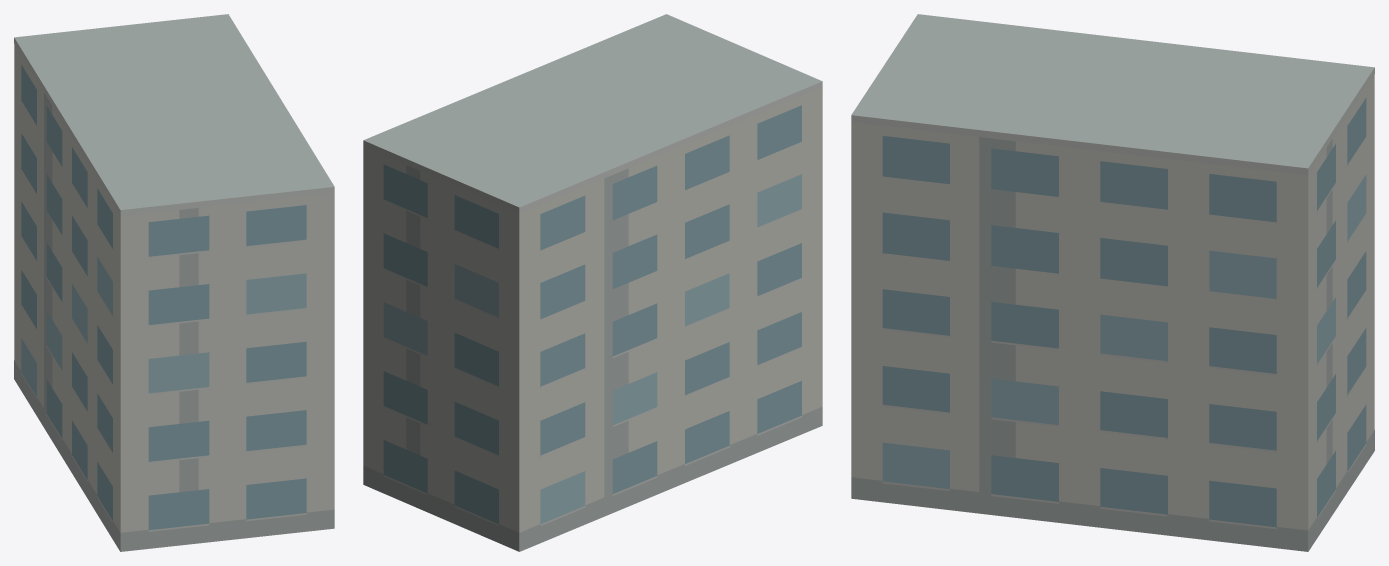
The model's file is survey-upis-32979079.glb.
3 views of the same model, side by side, from view 1: azimuth 30°, elevation 25°; view 2: azimuth 150°, elevation 25°; view 3: azimuth 270°, elevation 25° (orthographic). The views are drawn at different scales.
Parts seen in each view (by area): view 1: survey-upis-32979079.tmp; view 2: survey-upis-32979079.tmp; view 3: survey-upis-32979079.tmp.
Part boxes in pixels (left/top/right/bottom): survey-upis-32979079.tmp: left=14, top=14, right=334, bottom=551; survey-upis-32979079.tmp: left=363, top=14, right=822, bottom=551; survey-upis-32979079.tmp: left=851, top=14, right=1374, bottom=551.
Size of the model in its own units: 11.58 by 13.4 by 16.59.
